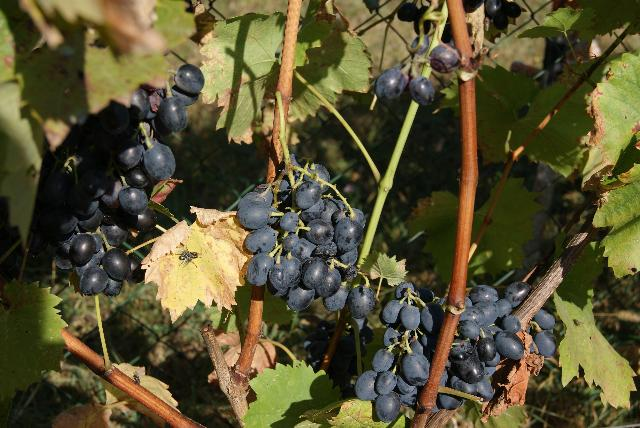grapes: (29, 64, 204, 296), (238, 159, 371, 311), (354, 281, 450, 422), (429, 281, 531, 412), (530, 310, 556, 358), (401, 305, 404, 309)
